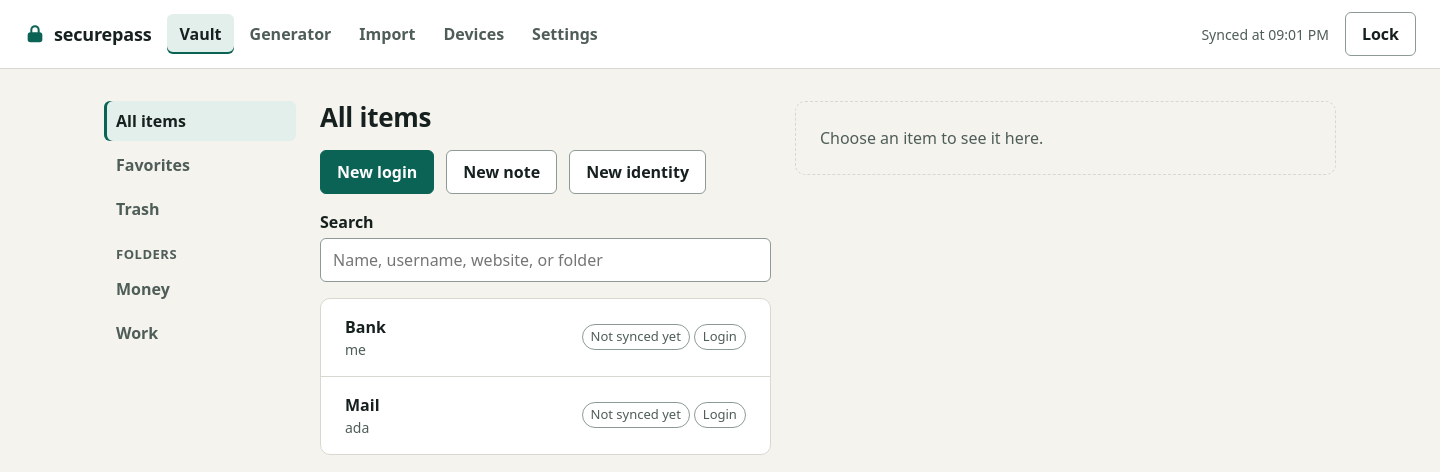
Test: VaultScreen › filters by search and by folder
This screenshot has width=1440, height=472.
Expected: the text "Bank" is shown, [345,314,386,338]
Type "ada" into the search field labelled "Search" at [545, 260], box [320,238,771,282]
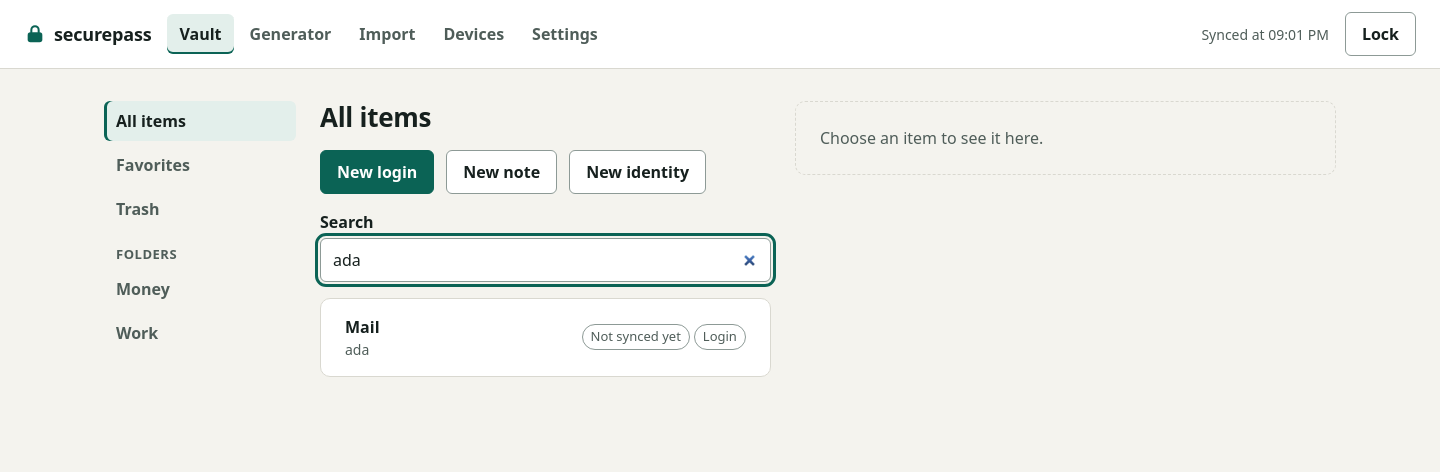
Expected: the text "Mail" is shown, [345,314,380,338]
Result: the button "Bank" is gone
Clear the search field labelled "Search" at [545, 260], box [320,238,771,282]
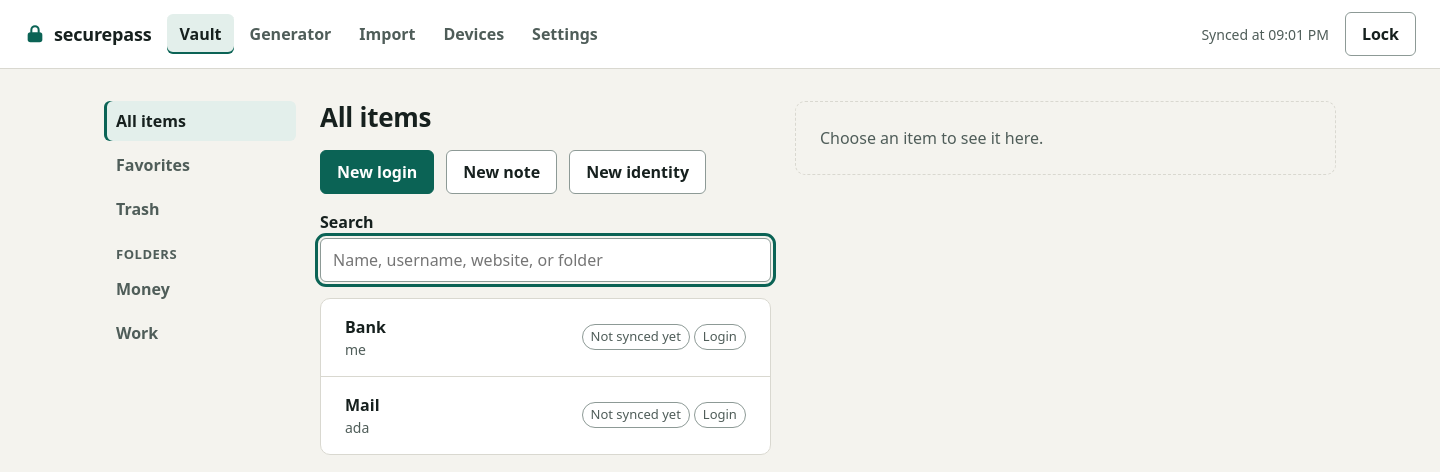
Click the button "Money" at [200, 288], box [104,268,296,308]
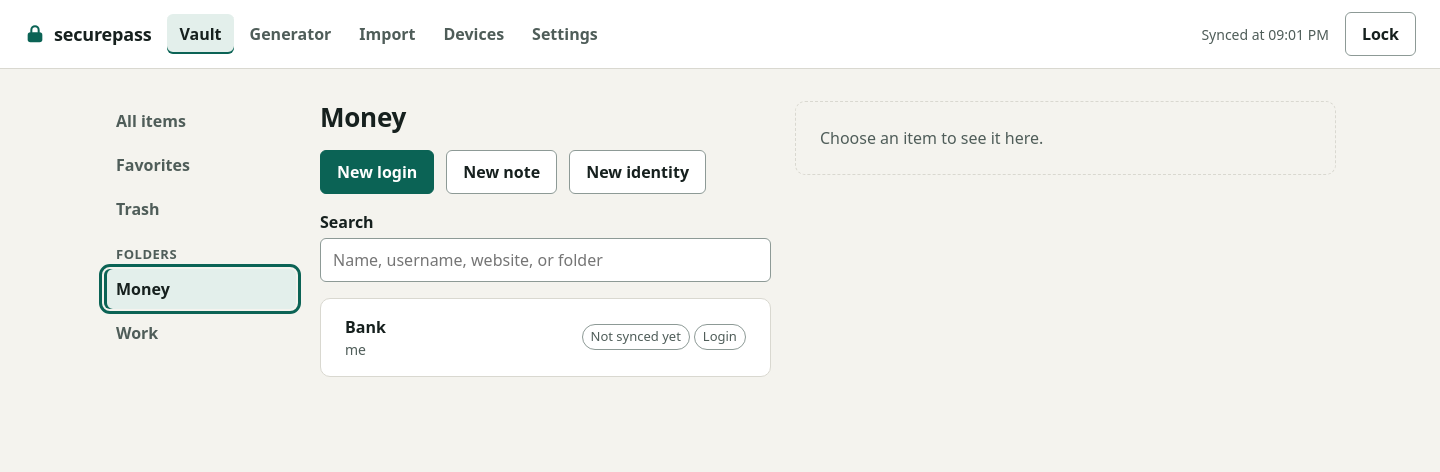
Result: the list named "Money" shows "Bank" at [321,298,770,376]
Result: the button "Mail" is gone
